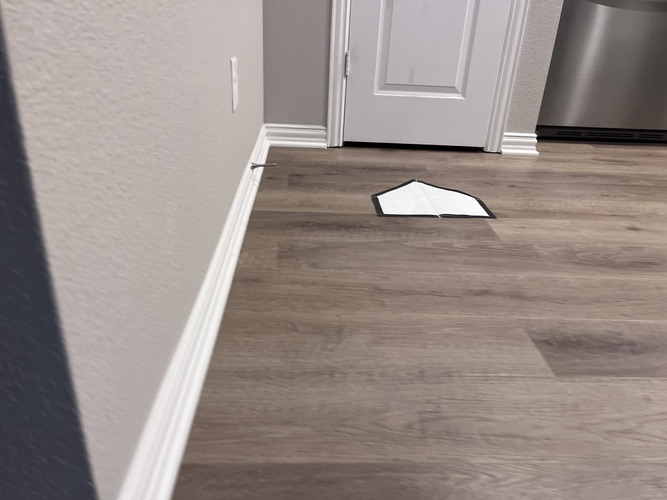homeplate: (370, 179, 494, 219)
